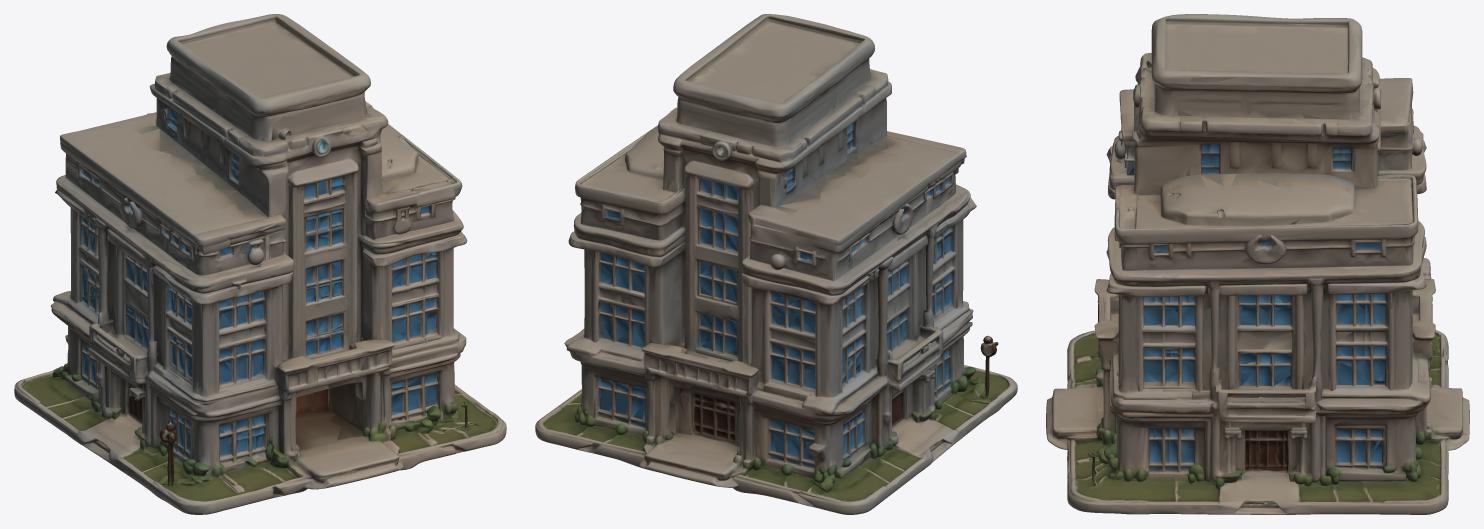
The model's file is city.glb.
3 renders of one model, left to right at view 1: azimuth 30°, elevation 25°; view 2: azimuth 150°, elevation 25°; view 3: azimuth 270°, elevation 25°, orthographic. The views are drawn at different scales.
Visible parts, largest first — view 1: tripo_node_dbcf1682-6552-4eac-8fea-415e4d71e684; view 2: tripo_node_dbcf1682-6552-4eac-8fea-415e4d71e684; view 3: tripo_node_dbcf1682-6552-4eac-8fea-415e4d71e684.
Boxes of the visible parts, box(x1,y1,x2,y2) form: tripo_node_dbcf1682-6552-4eac-8fea-415e4d71e684: box(14, 14, 506, 514); tripo_node_dbcf1682-6552-4eac-8fea-415e4d71e684: box(535, 14, 1017, 514); tripo_node_dbcf1682-6552-4eac-8fea-415e4d71e684: box(1046, 14, 1469, 514).
Bounding box in the file's own units: 0.9522 × 0.979 × 0.9613.
Materials: 1 (1 with a texture image).
